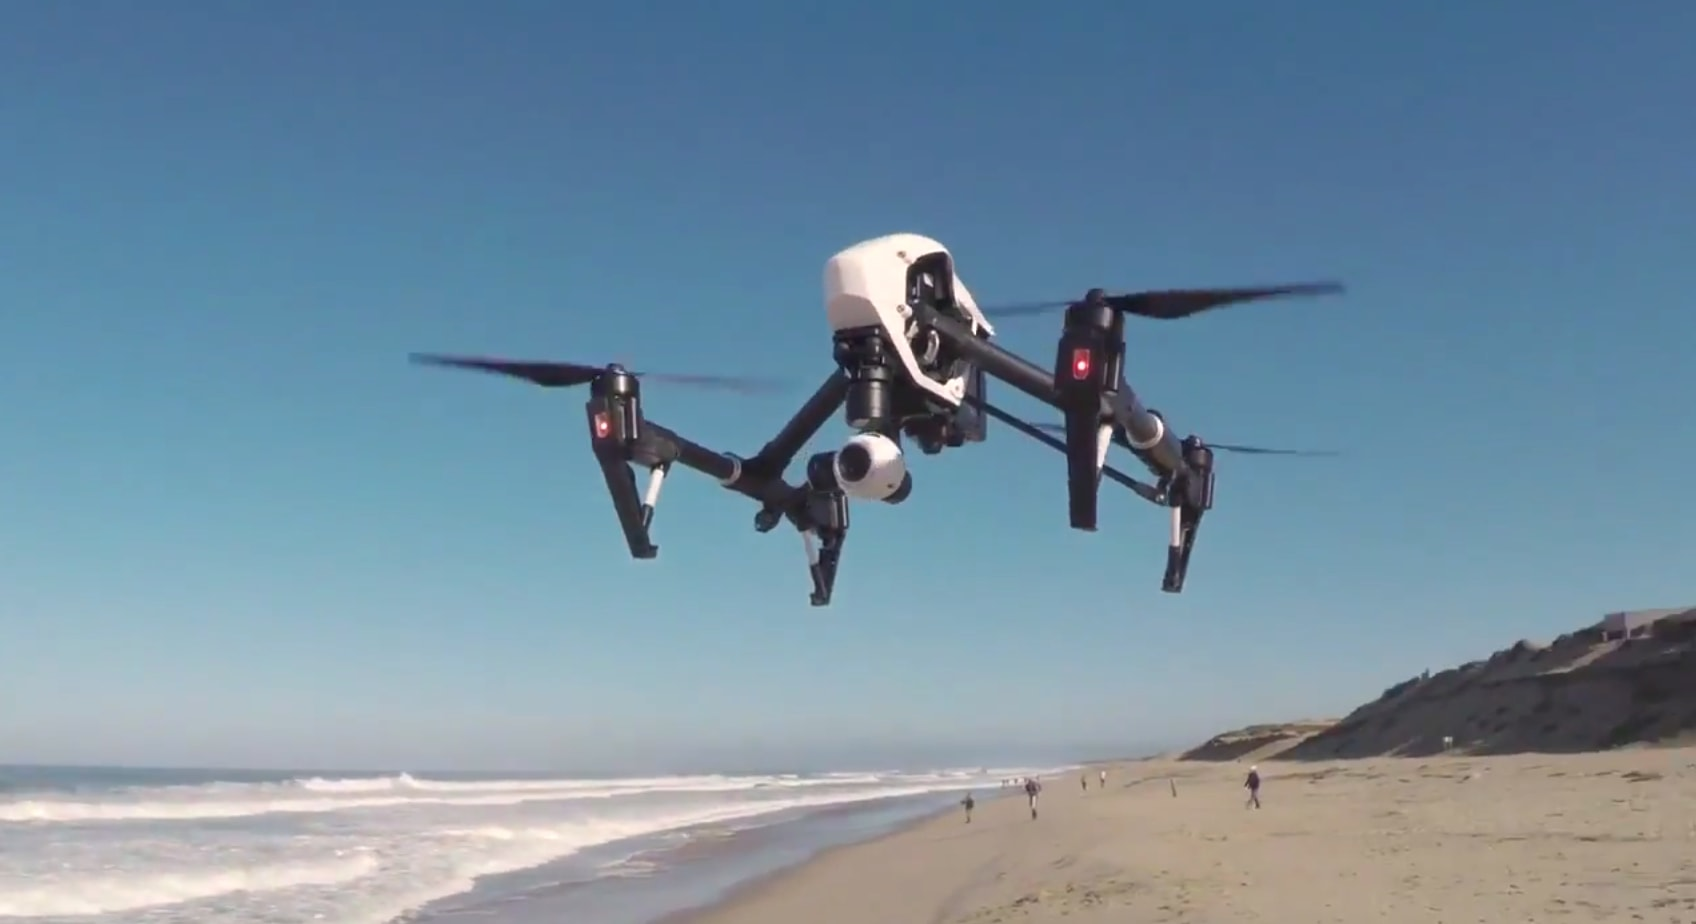drone: (403, 228, 1378, 618)
person: (1217, 752, 1289, 827), (934, 762, 997, 830), (1012, 767, 1068, 822), (1058, 764, 1121, 791)
